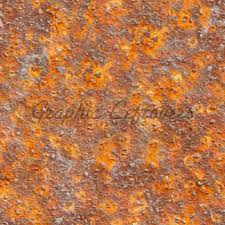rust: (2, 2, 222, 223)
